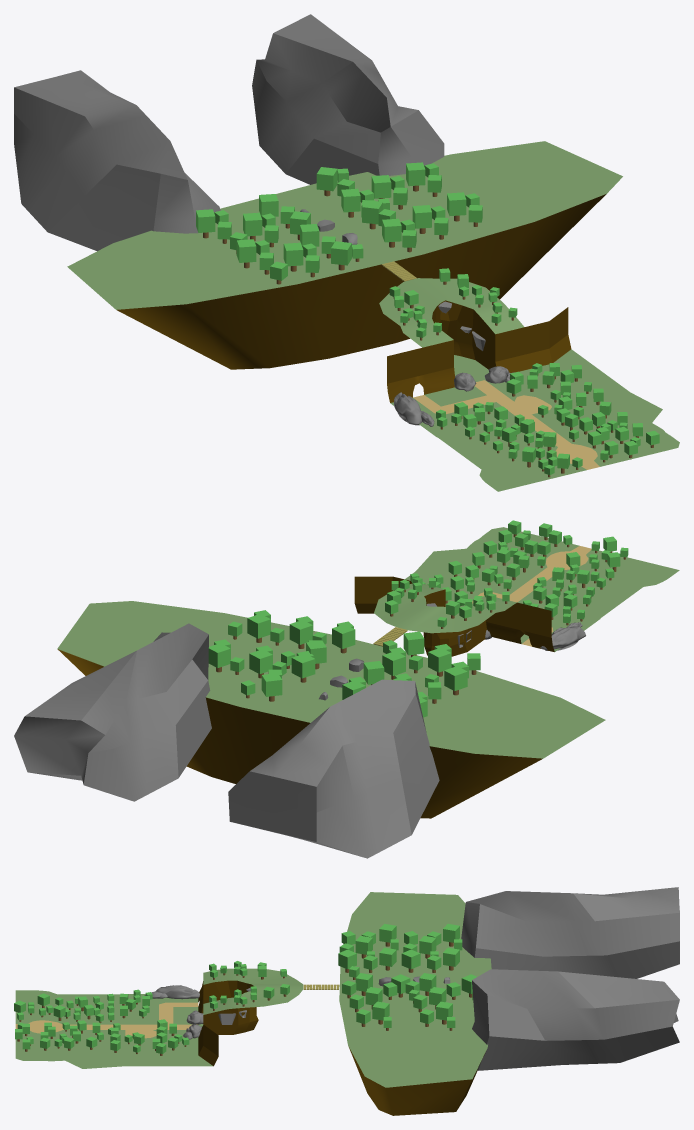
The model's file is zank.fbx.
3 views of the same model, one above another, from view 1: azimuth 30°, elevation 25°; view 2: azimuth 150°, elevation 25°; view 3: azimuth 270°, elevation 25° (orthographic). The views are drawn at different scales.
Parts seen in each view (by area): view 1: pCube126; view 2: pCube126; view 3: pCube126.
Part boxes in pixels (bbox=[...]): pCube126: bbox=[14, 14, 679, 491]; pCube126: bbox=[14, 520, 679, 858]; pCube126: bbox=[14, 887, 679, 1115].
Bounding box in the file's own units: 11.12 × 3.46 × 15.99.
